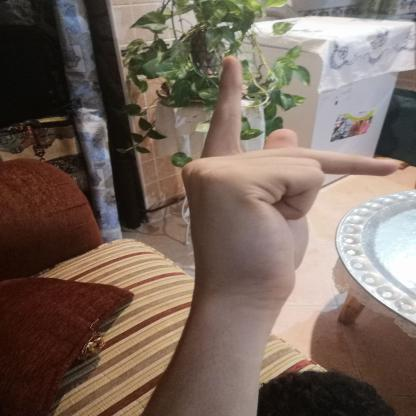DHAA: (163, 44, 409, 316)
